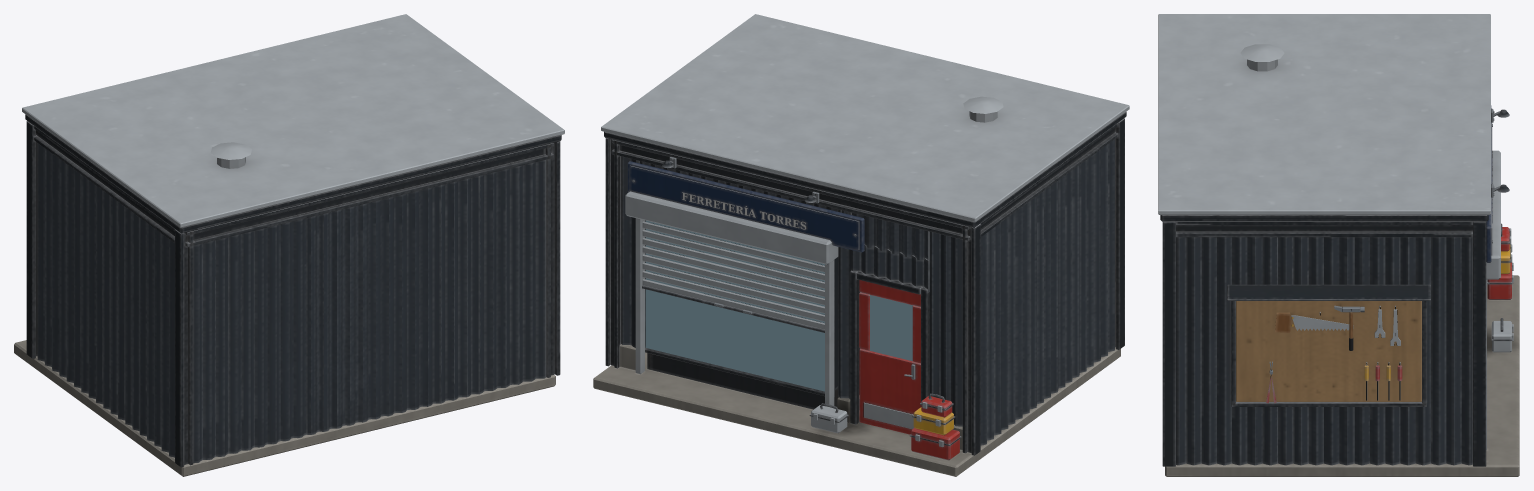
The model's file is tienda_herramientas.fbx.
3 renders of one model, left to right at view 1: azimuth 30°, elevation 25°; view 2: azimuth 150°, elevation 25°; view 3: azimuth 270°, elevation 25°, orthographic. The views are drawn at different scales.
Visible parts, largest first — view 1: tienda_herramientas; view 2: tienda_herramientas, tienda_herramientas_cristal, tienda_herramientas_persiana, tienda_herramientas_puerta, tienda_herramientas_puerta_cristal; view 3: tienda_herramientas.
Part boxes in pixels (box(x1,y1,x2,y2)): tienda_herramientas: box(14, 14, 564, 476); tienda_herramientas: box(593, 14, 1129, 476); tienda_herramientas_cristal: box(645, 220, 824, 391); tienda_herramientas_persiana: box(642, 221, 824, 332); tienda_herramientas_puerta: box(859, 280, 920, 434); tienda_herramientas_puerta_cristal: box(870, 295, 913, 361); tienda_herramientas: box(1158, 14, 1519, 476).
Bounding box in the file's own units: 10.97 × 7.12 × 8.15.
Materials: 4 (1 with a texture image).
